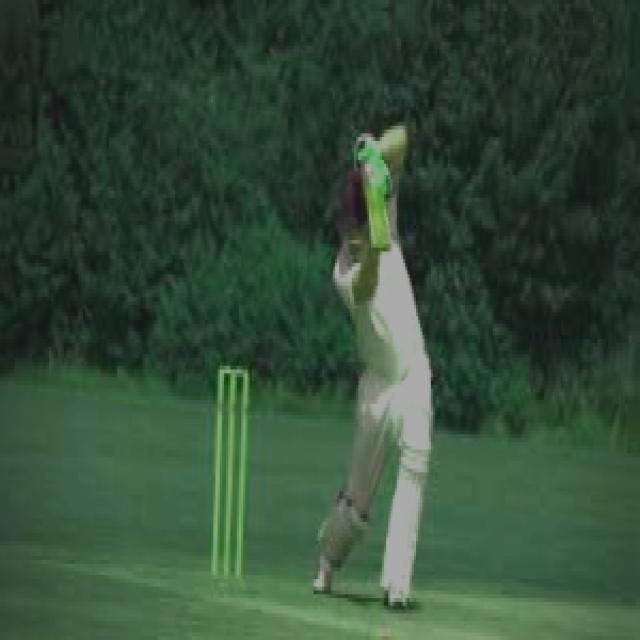bat: (360, 158, 404, 260)
toe: (368, 239, 396, 253)
